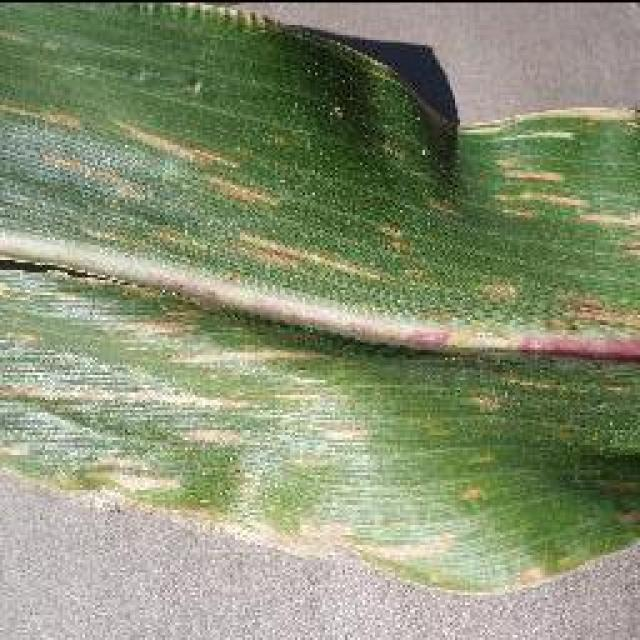Corn_Grey_Leaf_Spot: (0, 31, 640, 564)
